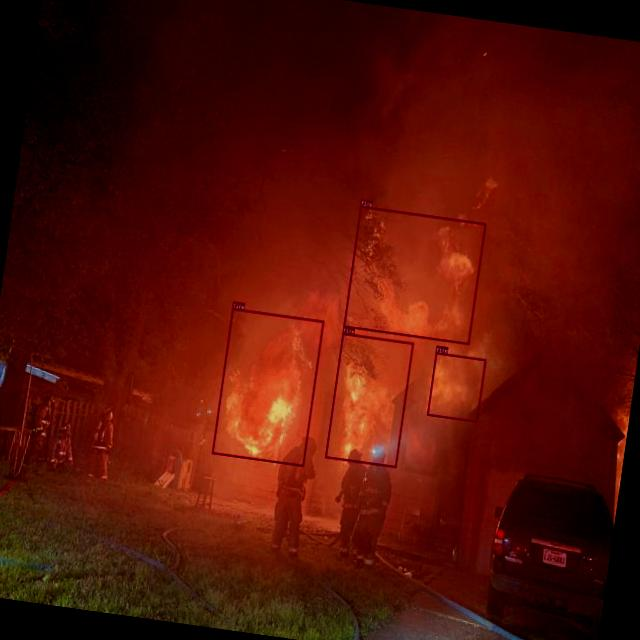fire: (343, 205, 486, 344), (211, 308, 324, 467), (325, 332, 414, 468), (427, 352, 486, 422)
